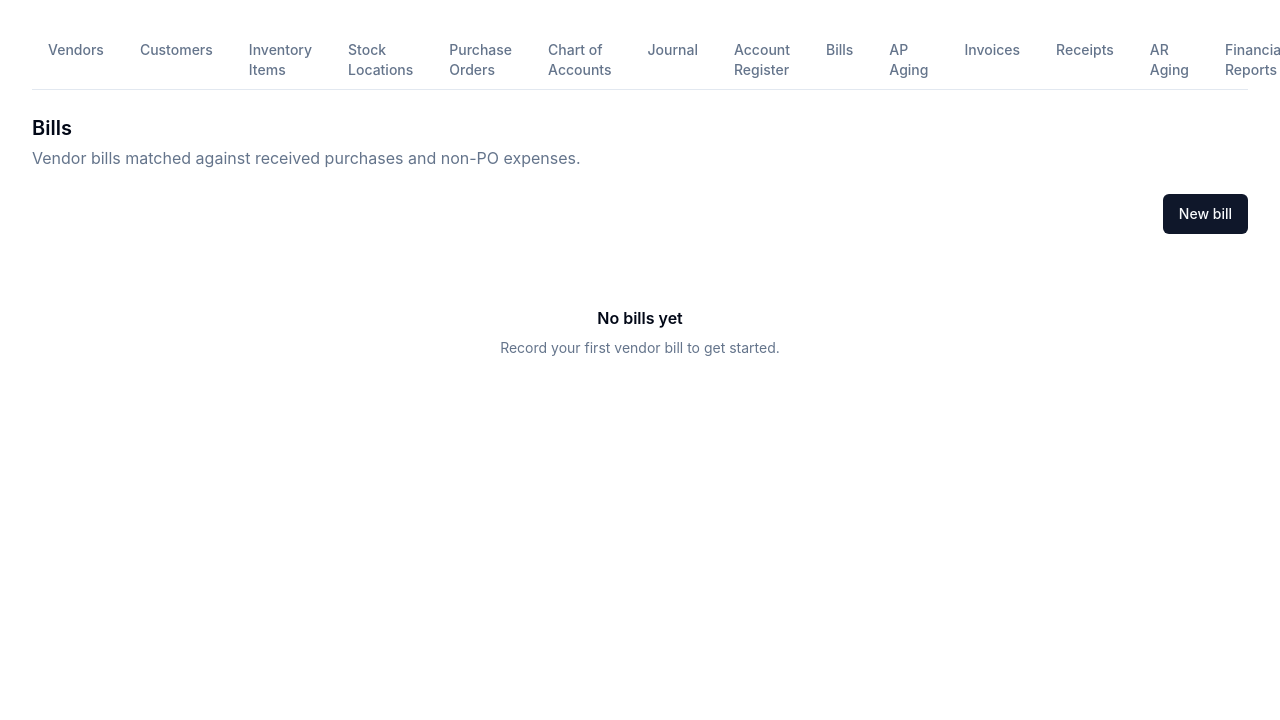
Test case: Bills screen › omits REVENUE accounts from the non-PO account Select
Click the button "New bill".
click(1205, 214)  # box [1163, 194, 1248, 234]
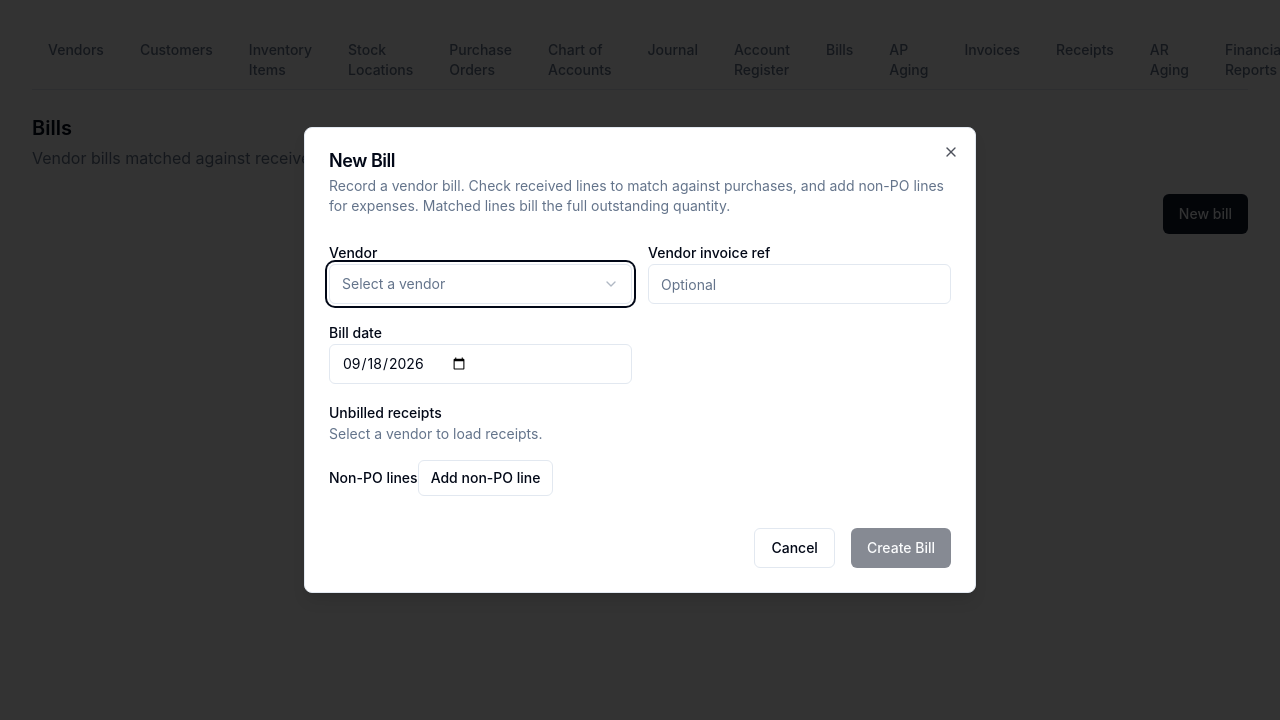
Result: the heading "New Bill" is shown at [329, 150, 395, 171]
Click the button "Add non-PO line".
click(486, 478)  # box [418, 460, 553, 496]
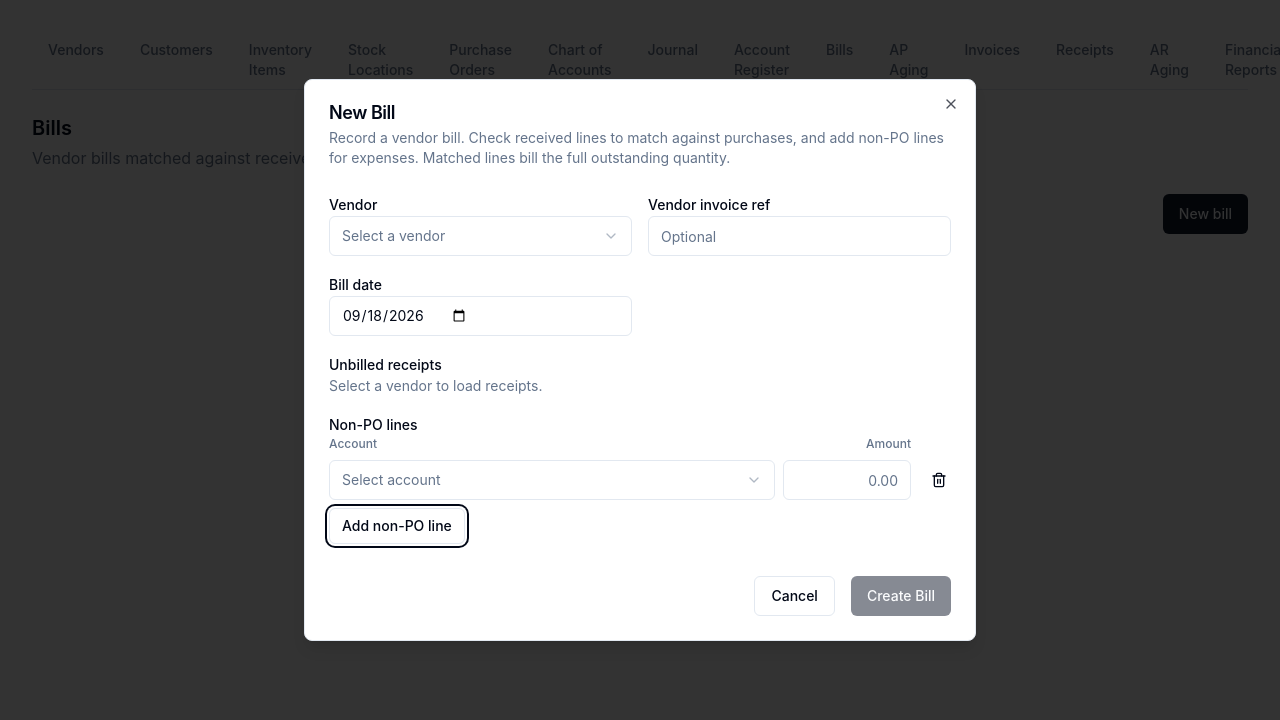
Click the dropdown named "Non-PO line 1 account".
click(391, 480)  # box [329, 460, 775, 500]
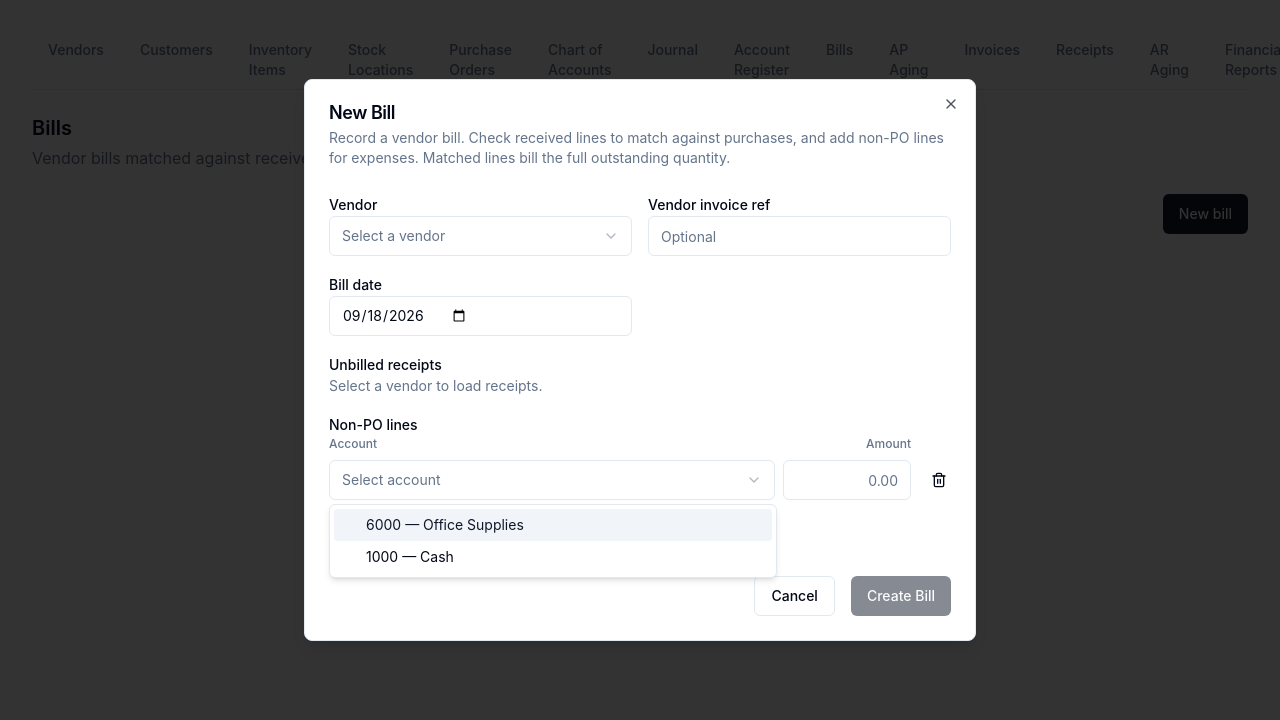
Result: the option "6000 — Office Supplies" is shown at [334, 509, 772, 541]
Result: the option "1000 — Cash" is shown at [366, 548, 454, 565]
